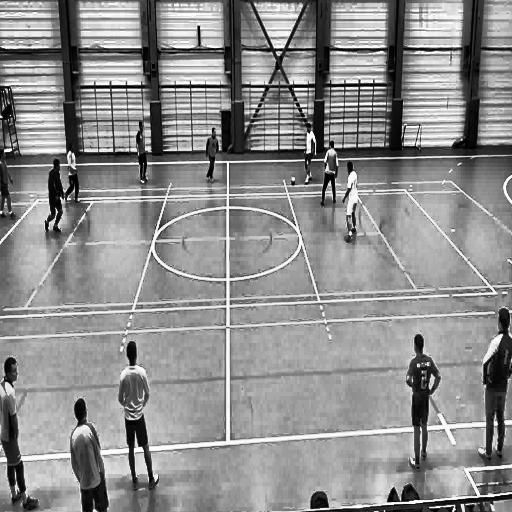ball: (289, 174, 297, 188)
